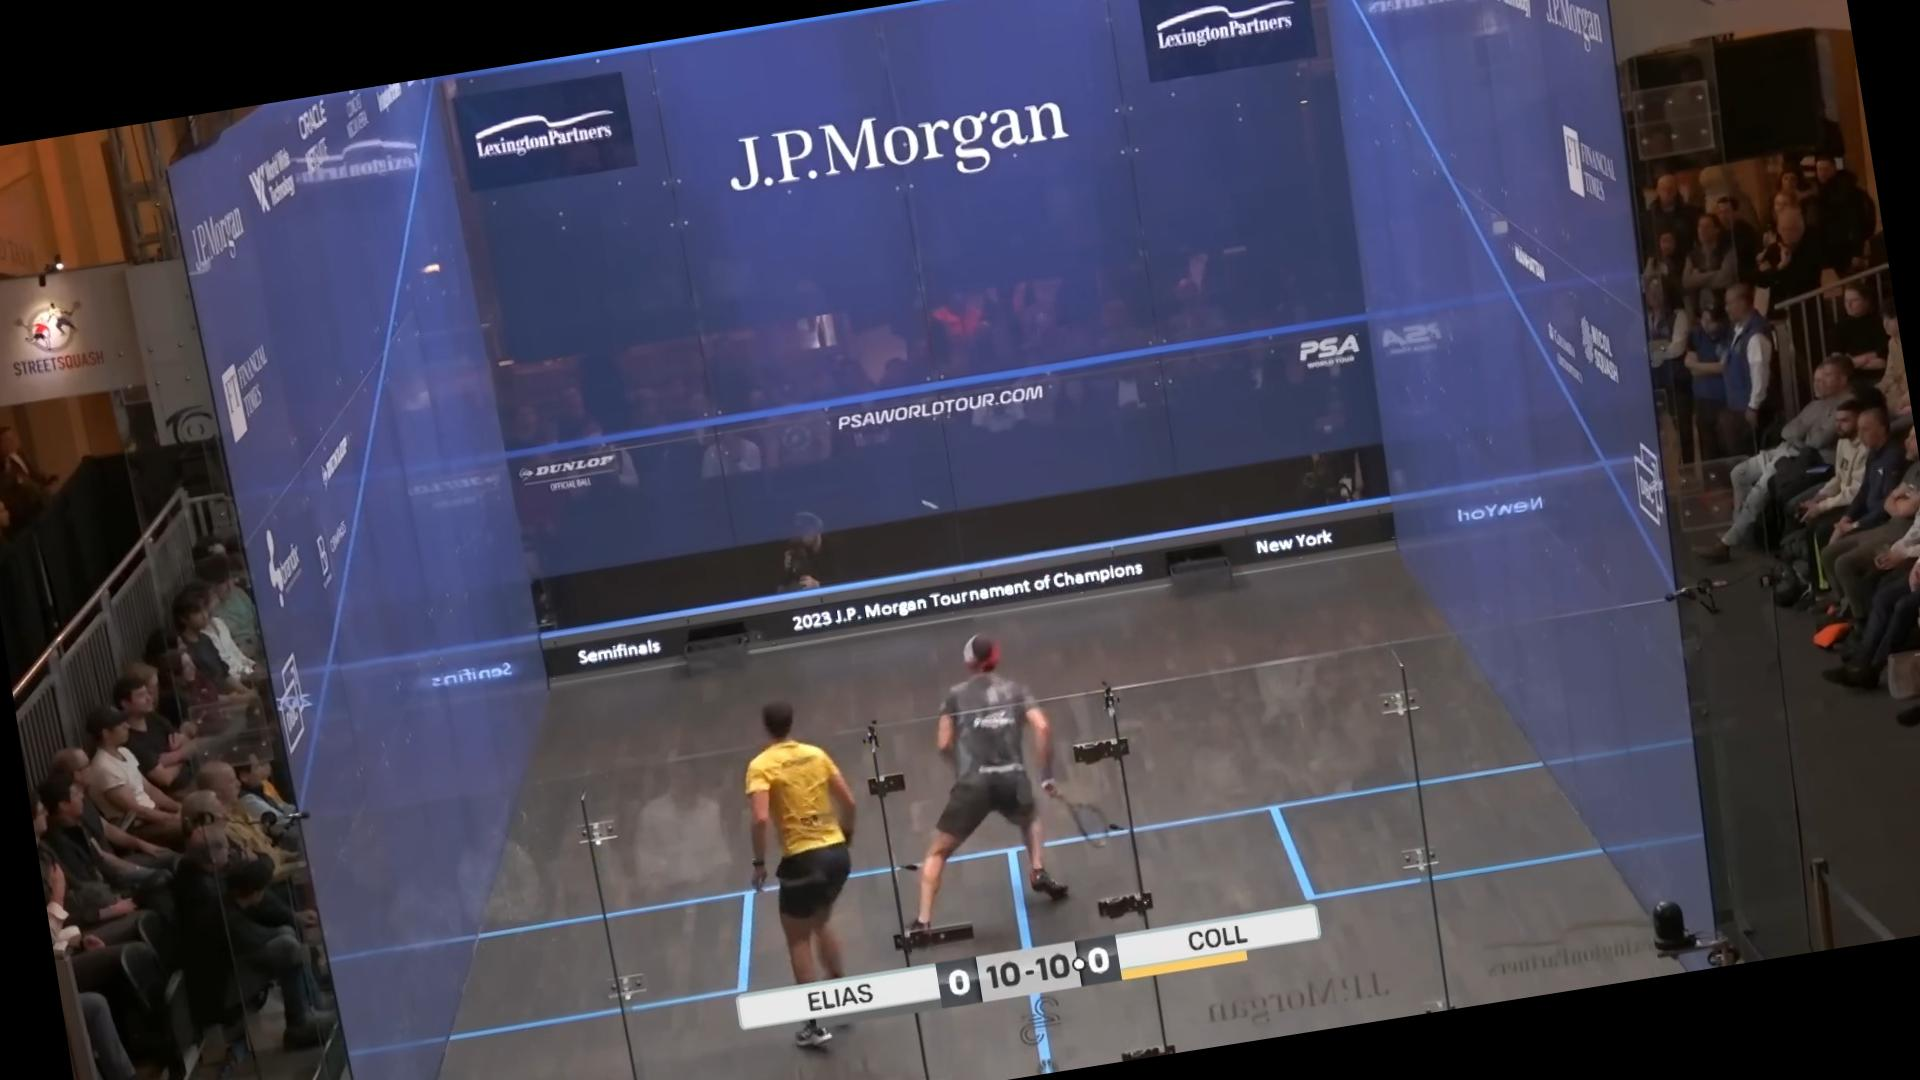Racket: (1044, 779, 1121, 856)
